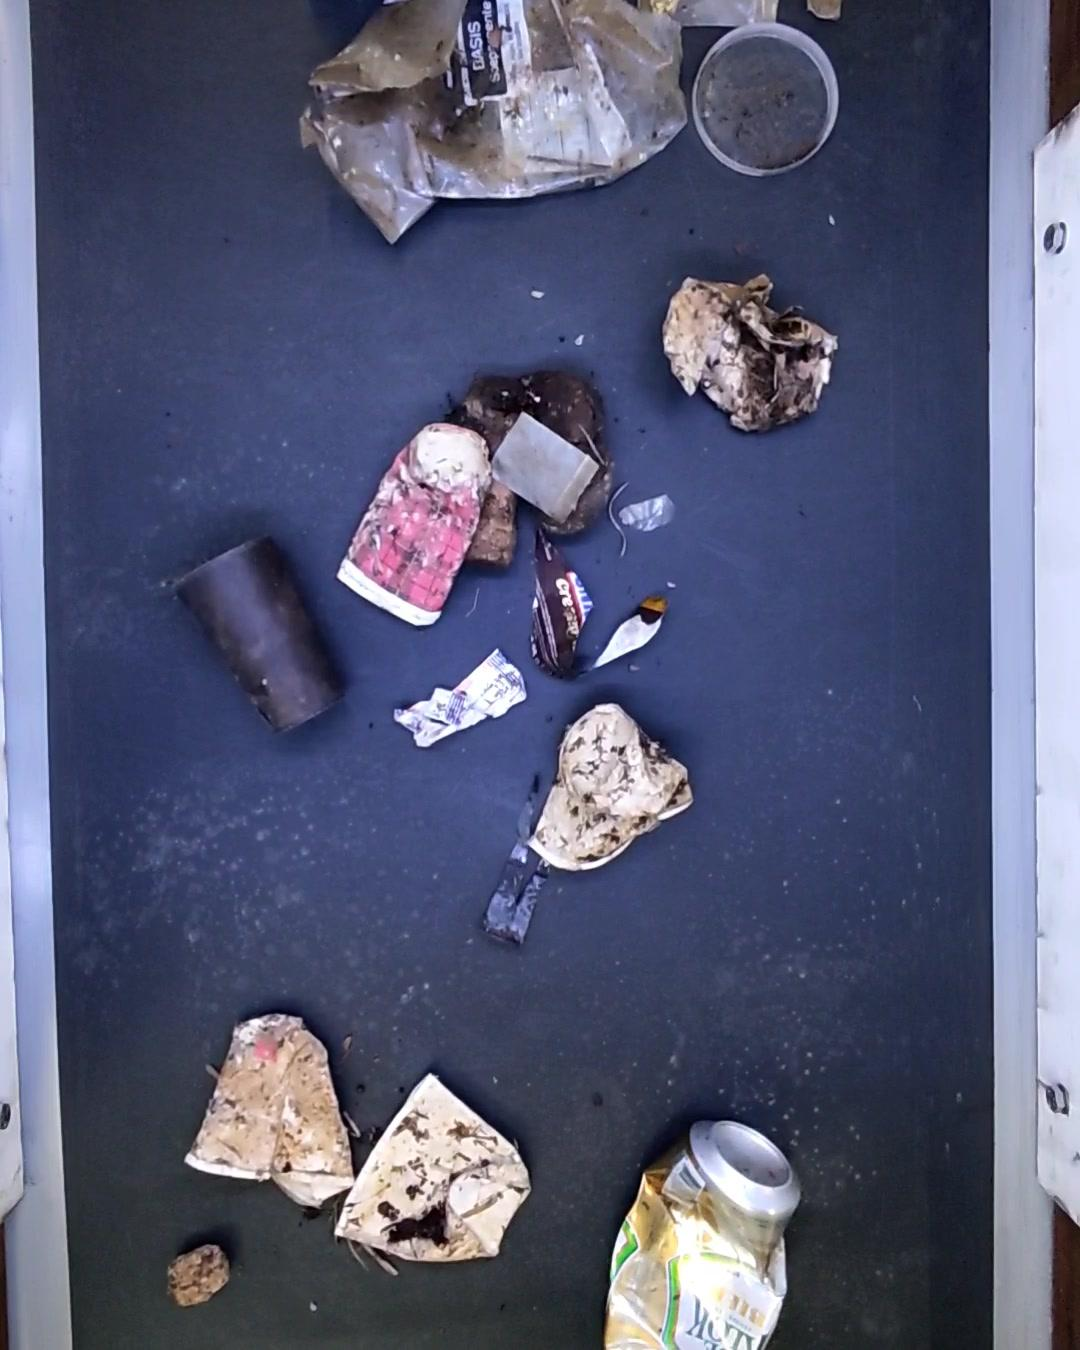Plastic folies of stukken daarvan 2.5- 50 cm: (296, 0, 692, 242), (615, 493, 680, 531)
Snoep snack en chips verpakkingen: (602, 1116, 802, 1350), (528, 527, 667, 684), (392, 649, 527, 750)
